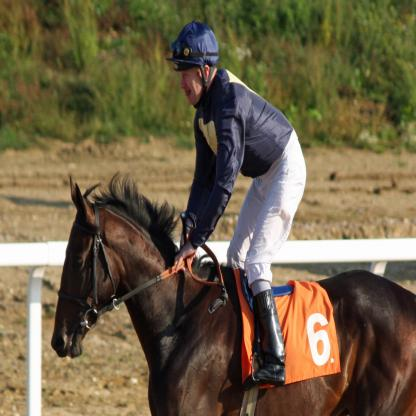Helmet: (174, 18, 218, 95)
